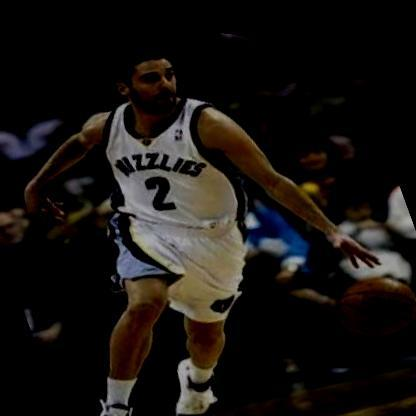basketball: (323, 242, 416, 345)
